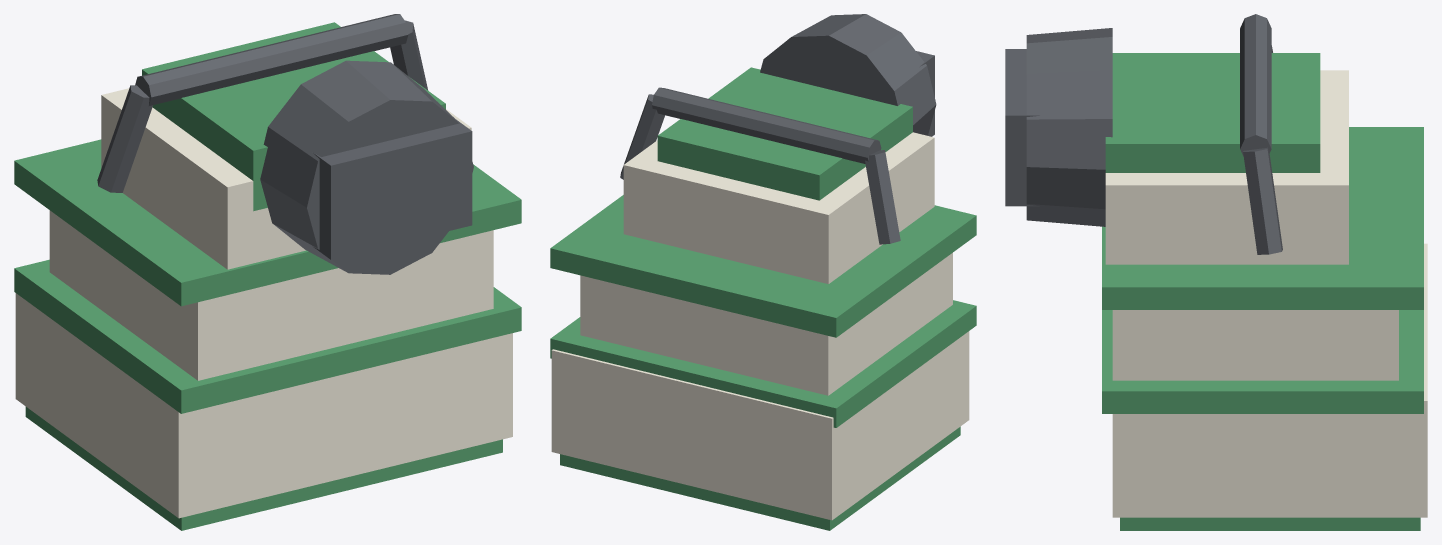
Rendered from lawn-mowing-simulator-kit-grass-bag-66f70ba2__27357.glb.
3 views of the same model, side by side, from view 1: azimuth 30°, elevation 25°; view 2: azimuth 150°, elevation 25°; view 3: azimuth 270°, elevation 25° (orthographic). The views are drawn at different scales.
Parts seen in each view (by area): view 1: grass-bag; view 2: grass-bag; view 3: grass-bag.
Boxes of the visible parts, <box> form: grass-bag: <box>14,14,521,530</box>; grass-bag: <box>550,14,976,530</box>; grass-bag: <box>1005,14,1427,530</box>.
Bounding box in the file's own units: 0.53 × 0.645 × 0.59.
